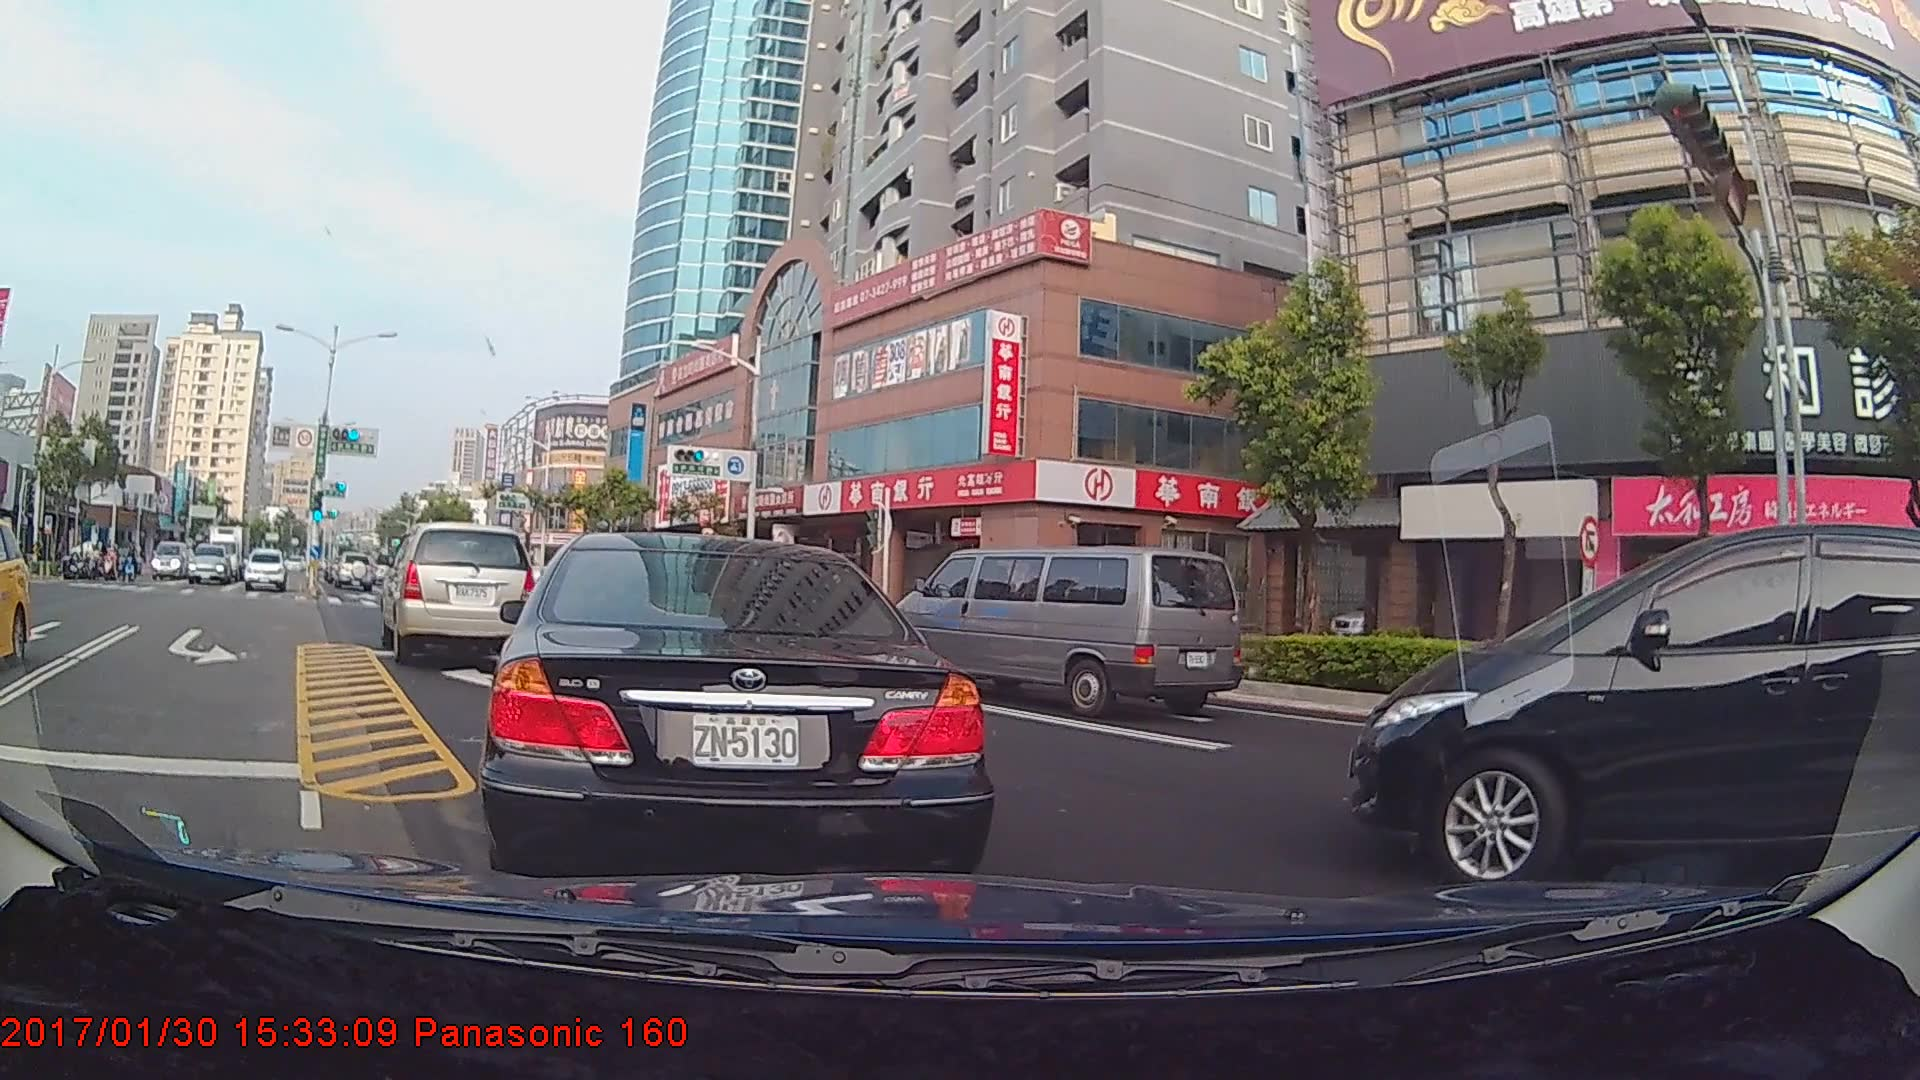vehicle: (1349, 514, 1902, 898), (493, 531, 988, 874), (885, 545, 1238, 725), (382, 524, 541, 665), (0, 520, 32, 666), (204, 521, 255, 567), (187, 542, 236, 585), (324, 549, 375, 591), (244, 547, 287, 593), (152, 541, 194, 582)
